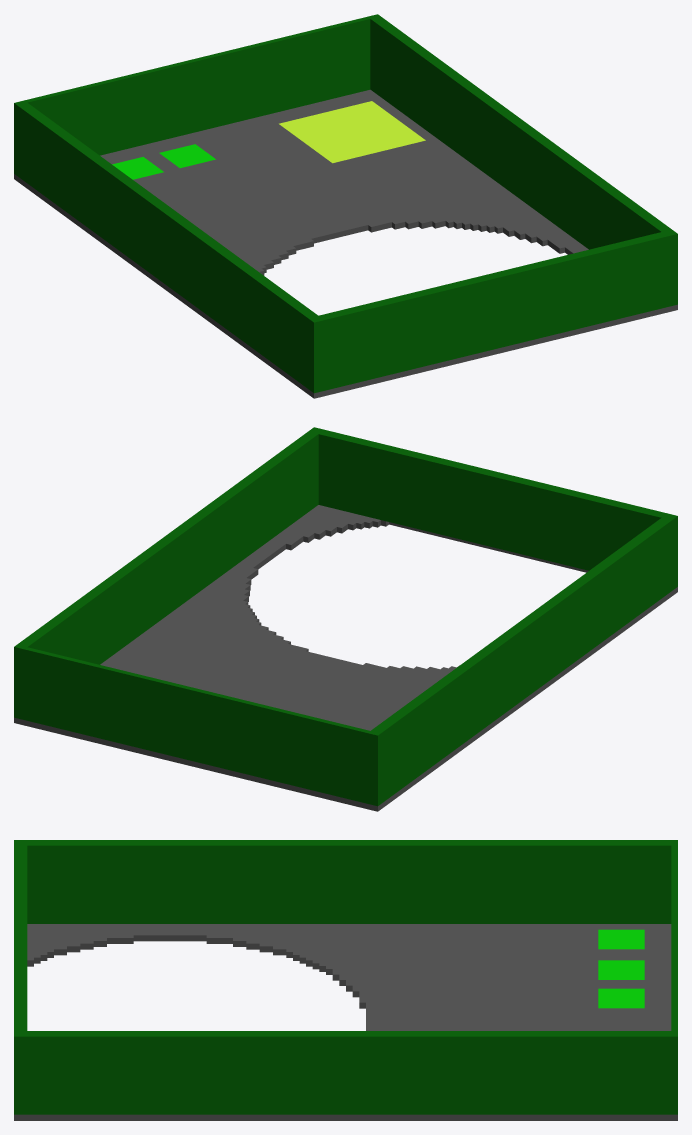
Rendered from lobby.fbx.
3 renders of one model, top to bottom at view 1: azimuth 30°, elevation 25°; view 2: azimuth 150°, elevation 25°; view 3: azimuth 270°, elevation 25°, orthographic. The views are drawn at different scales.
Parts seen in each view (by area): view 1: Untitled; view 2: Untitled; view 3: Untitled.
Boxes of the visible parts, x1=… form: Untitled: x1=14, y1=14, x2=677, y2=398; Untitled: x1=14, y1=427, x2=677, y2=811; Untitled: x1=14, y1=840, x2=677, y2=1120.
Bounding box in the file's own units: 700 × 140 × 1000.
